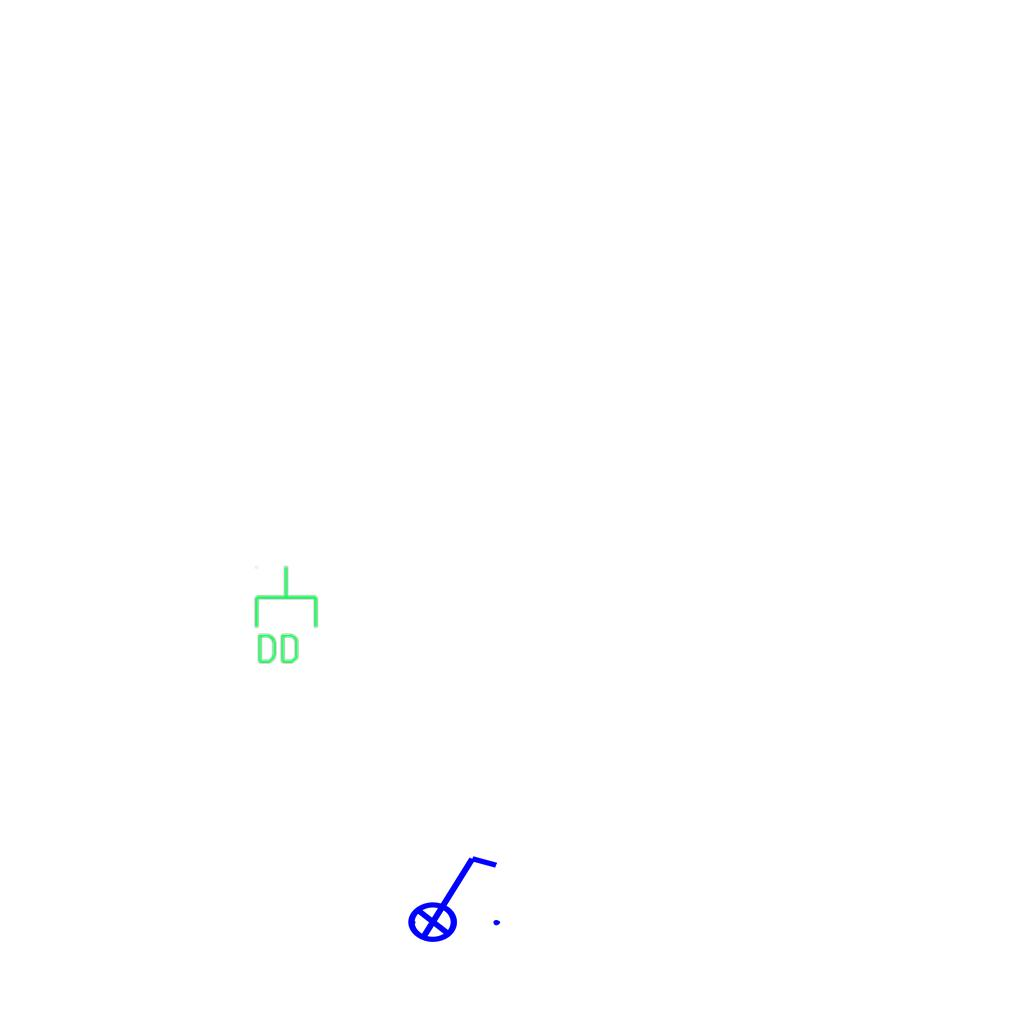Ausschalter_beleuchtet: (394, 848, 506, 944)
Datenanschluss_zweifach: (251, 564, 320, 667)
